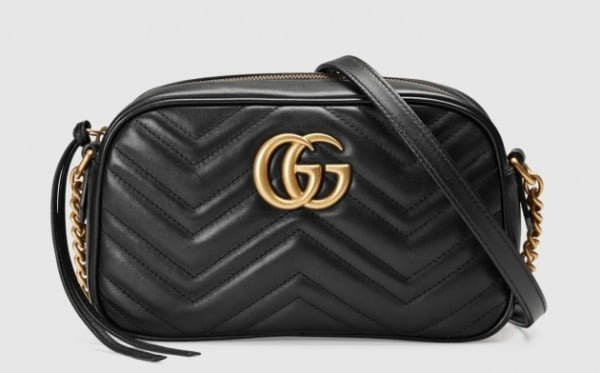Gucci: (95, 85, 519, 353), (120, 133, 281, 327), (250, 121, 363, 226)
